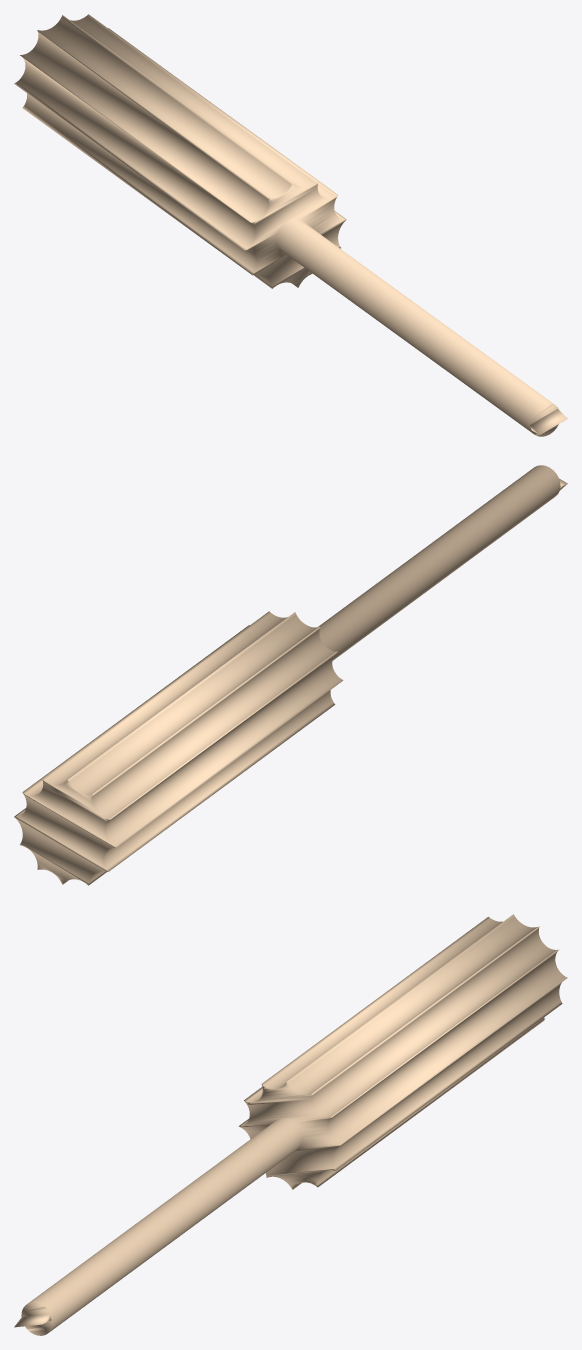
Rendered from screwdriver1_2.dae.
3 views of the same model, one above another, from view 1: azimuth 30°, elevation 25°; view 2: azimuth 150°, elevation 25°; view 3: azimuth 330°, elevation 25° (orthographic).
Parts seen in each view (by area): view 1: screwdriver1_019; view 2: screwdriver1_019; view 3: screwdriver1_019.
Boxes of the visible parts, x1,y1,x2,y2 form: screwdriver1_019: [14, 14, 567, 436]; screwdriver1_019: [14, 465, 567, 885]; screwdriver1_019: [14, 914, 567, 1335].
Size of the model in its own units: 0.0454 by 0.3695 by 0.0448.
